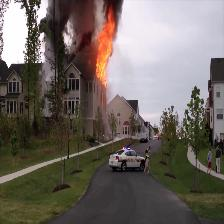fire: (94, 27, 115, 73)
smoke: (52, 1, 90, 54)
